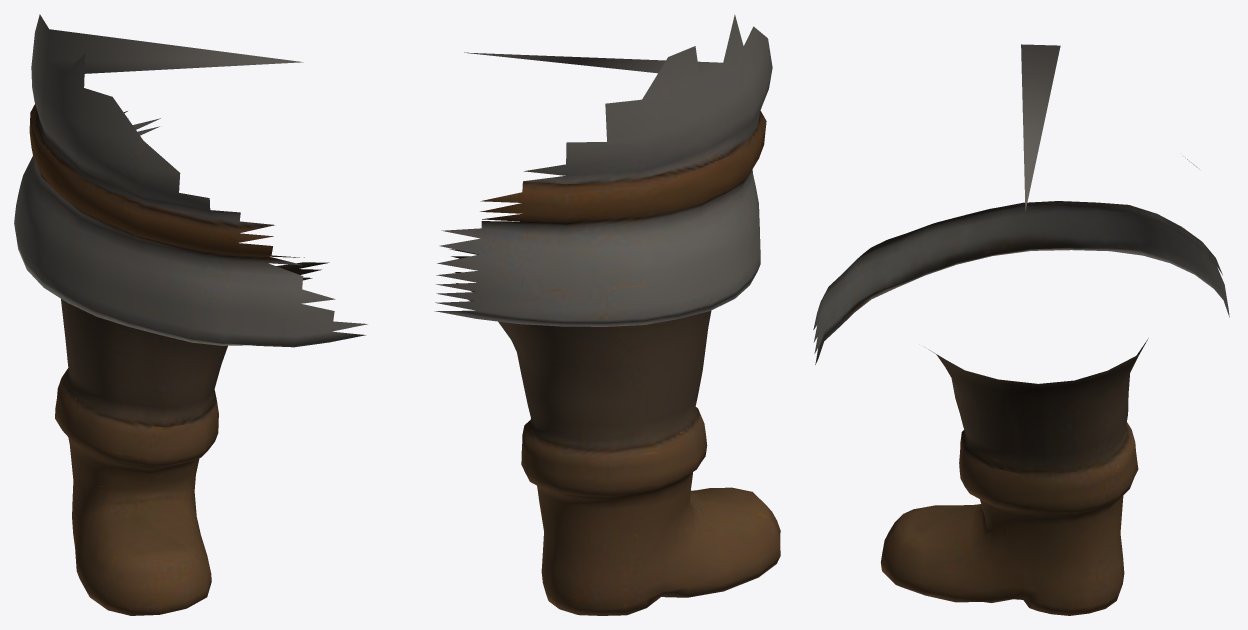
Rendered from dwarf-legR.glb.
3 views of the same model, side by side, from view 1: azimuth 30°, elevation 25°; view 2: azimuth 150°, elevation 25°; view 3: azimuth 270°, elevation 25° (orthographic). The views are drawn at different scales.
Parts seen in each view (by area): view 1: dwarf-legR; view 2: dwarf-legR; view 3: dwarf-legR.
Part boxes in pixels (bbox=[...]): dwarf-legR: bbox=[14, 14, 367, 615]; dwarf-legR: bbox=[434, 14, 780, 615]; dwarf-legR: bbox=[813, 44, 1229, 615].
Bounding box in the file's own units: 0.2073 × 0.4058 × 0.2902.
1 material, 1 textured.
